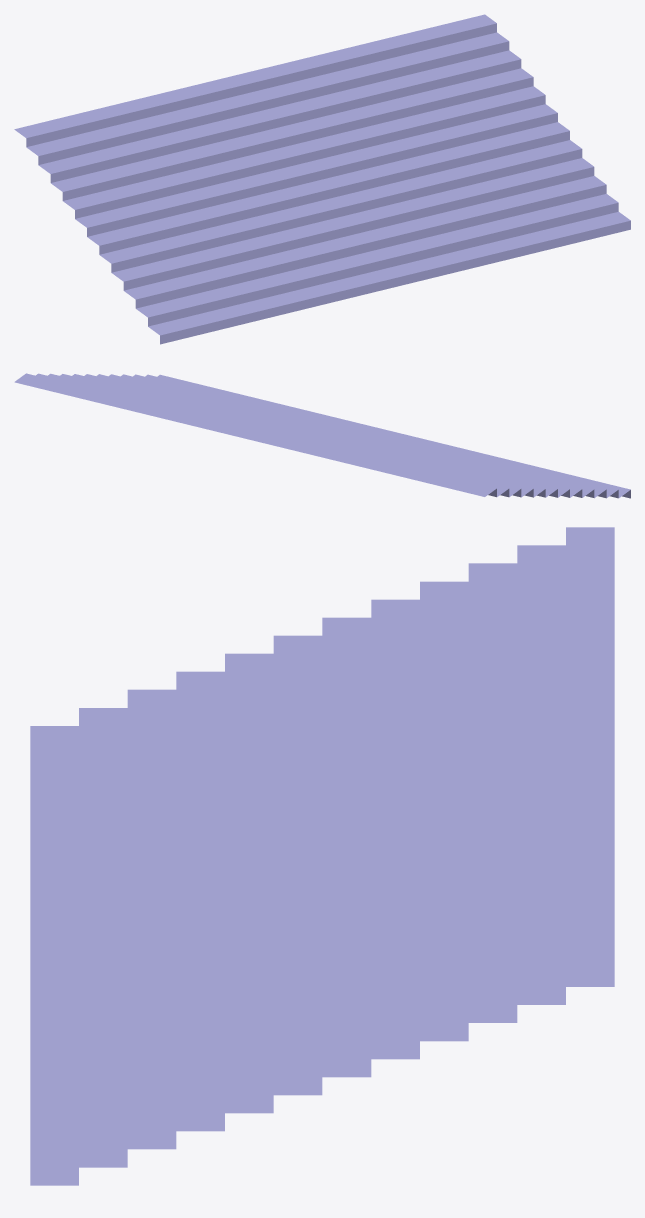
File: Escaleras_Pasillo.fbx
3 renders of one model, top to bottom at view 1: azimuth 30°, elevation 25°; view 2: azimuth 150°, elevation 25°; view 3: azimuth 270°, elevation 25°, orthographic. The views are drawn at different scales.
Parts seen in each view (by area): view 1: Stairs; view 2: Stairs; view 3: Stairs.
Boxes of the visible parts, <box> form: Stairs: <box>14,14,630,344</box>; Stairs: <box>14,373,630,498</box>; Stairs: <box>30,527,614,1185</box>.
Size of the model in its own units: 7.49 by 1.65 by 4.02.
